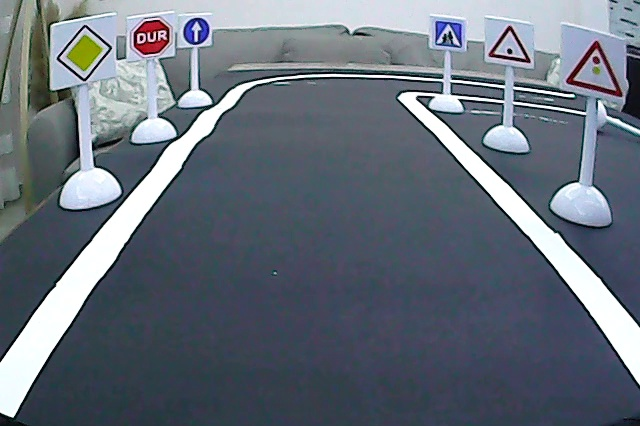green light: (485, 19, 534, 67)
red light: (564, 36, 629, 102)
school crossing: (431, 19, 465, 49)
stop sign: (132, 14, 171, 60)
